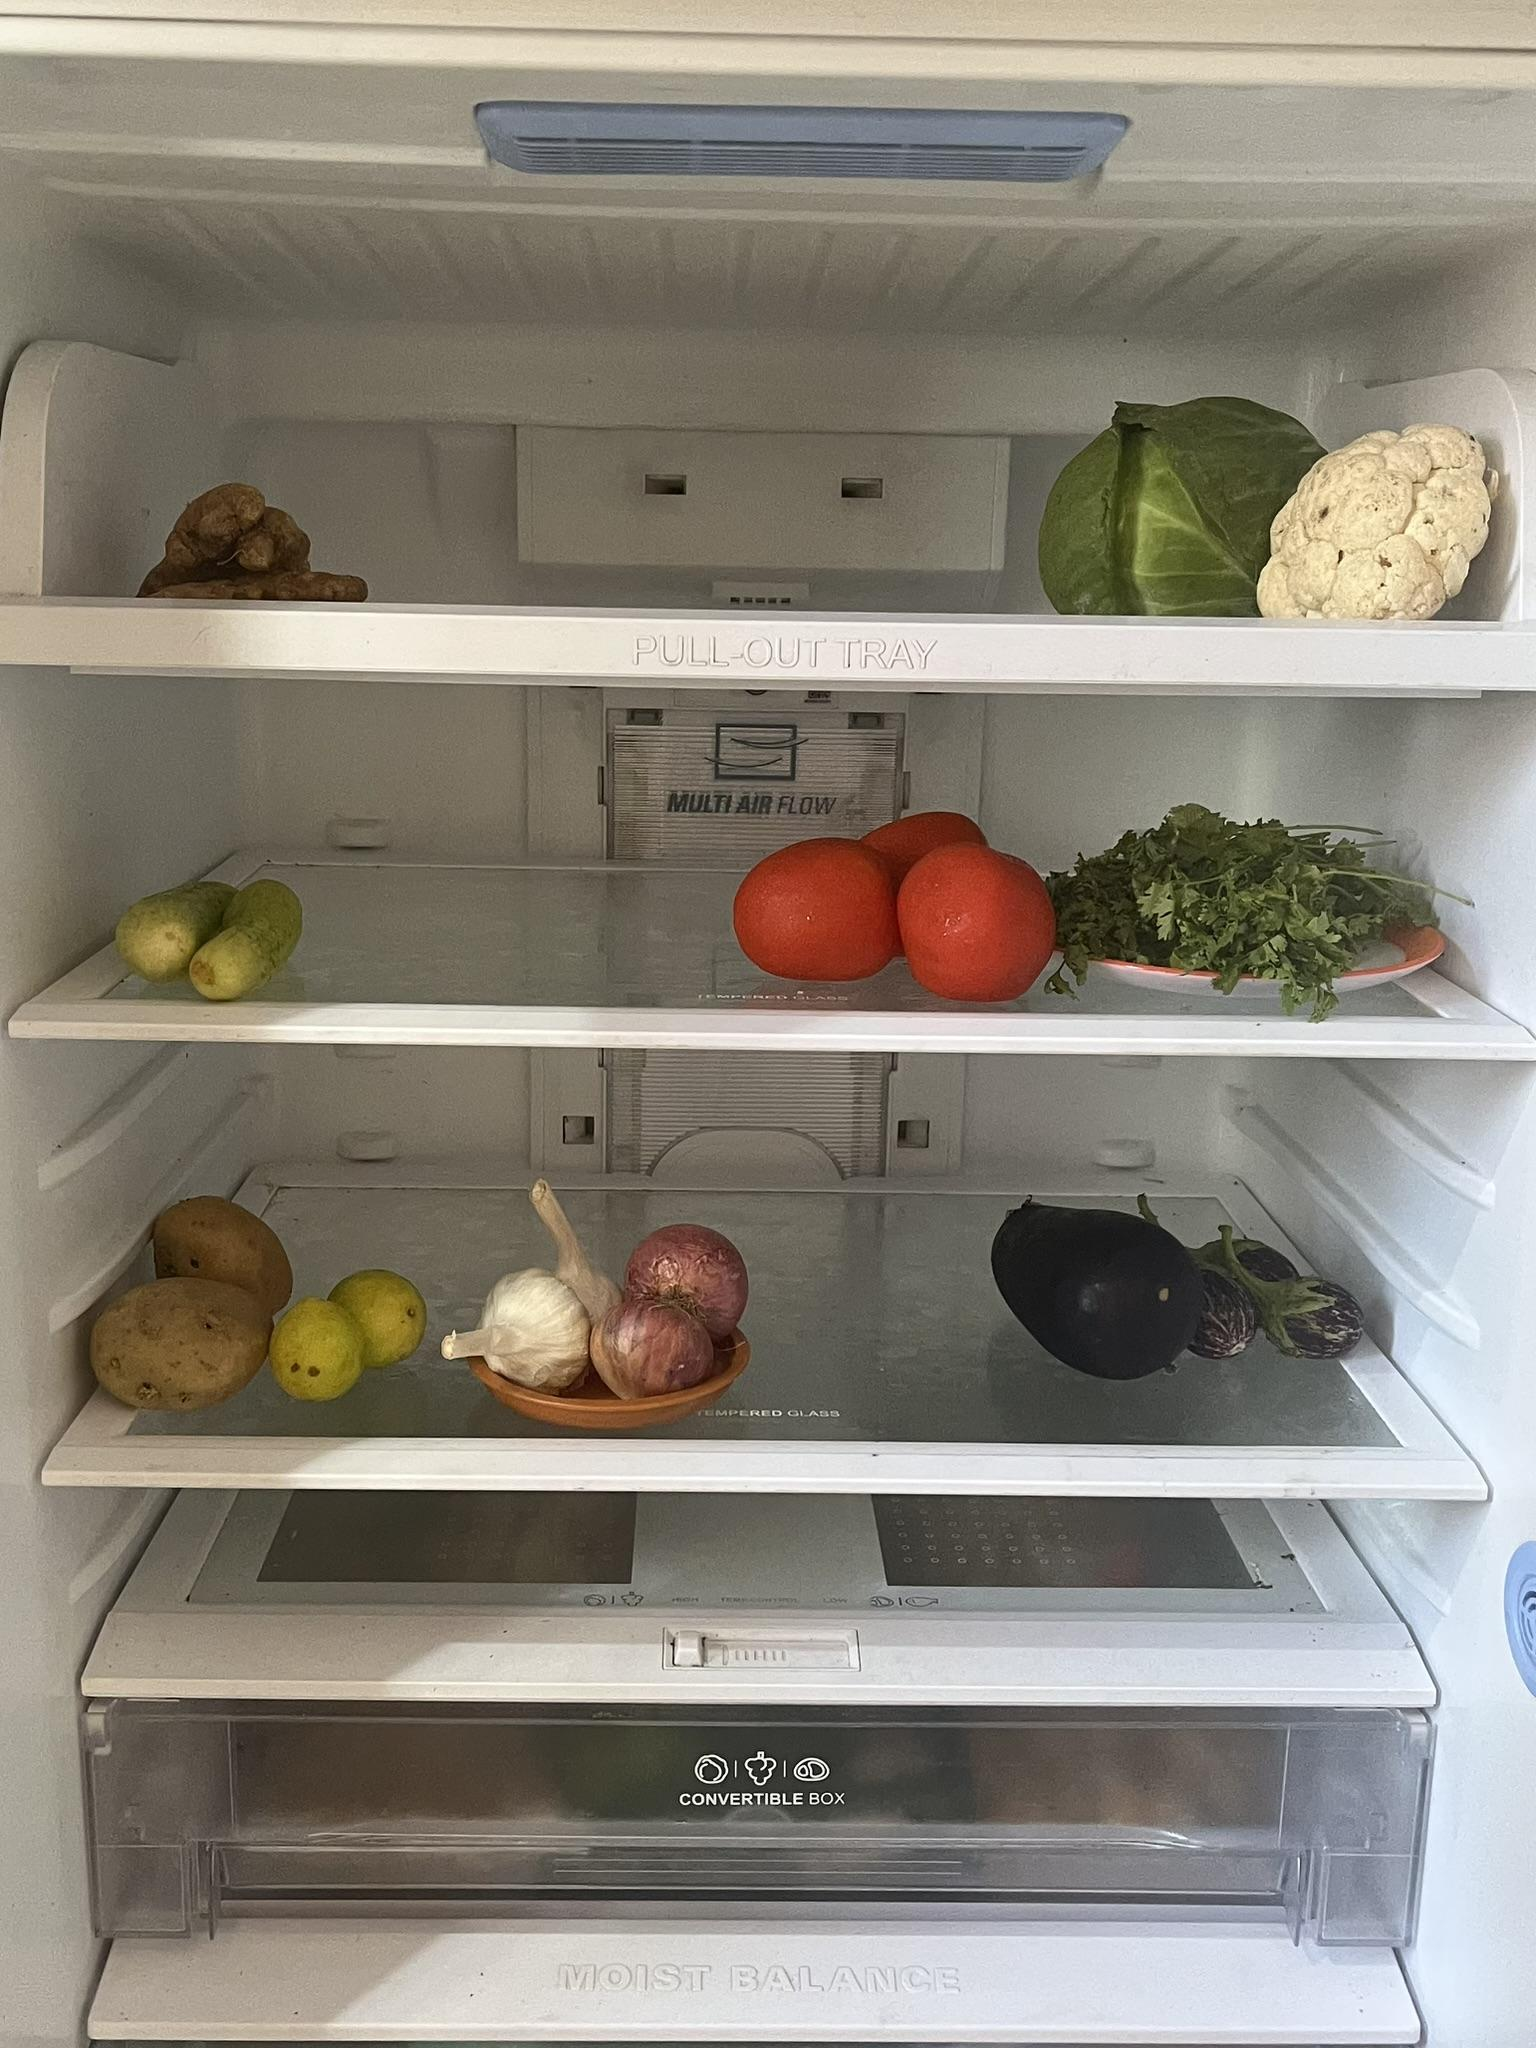bringal: (987, 1180, 1200, 1377), (1157, 1227, 1367, 1371)
cabbage: (1047, 393, 1323, 610)
cauliflower: (1257, 410, 1501, 616)
coriander: (1057, 806, 1426, 993)
cucumber: (103, 860, 310, 997)
garlic: (447, 1174, 597, 1377)
ginger: (134, 469, 376, 600)
lemon: (281, 1263, 434, 1400)
onion: (607, 1213, 753, 1400)
potato: (81, 1197, 287, 1406)
tomato: (737, 803, 1060, 1000)
